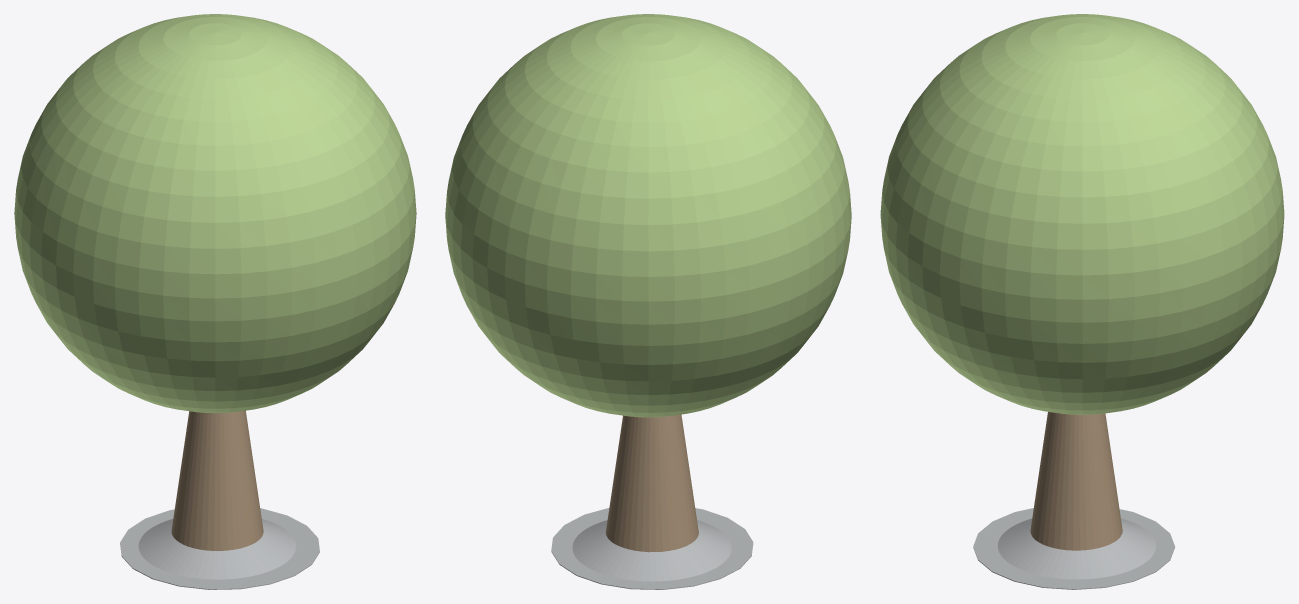
The model's file is SecondaryTreeLightGreen.glb.
3 views of the same model, side by side, from view 1: azimuth 30°, elevation 25°; view 2: azimuth 150°, elevation 25°; view 3: azimuth 270°, elevation 25° (orthographic).
Parts seen in each view (by area): view 1: Mesh_Mesh_head_geo.001_lambert2SG.001; view 2: Mesh_Mesh_head_geo.001_lambert2SG.001; view 3: Mesh_Mesh_head_geo.001_lambert2SG.001.
Part boxes in pixels (x1=…): Mesh_Mesh_head_geo.001_lambert2SG.001: x1=14, y1=14, x2=416, y2=589; Mesh_Mesh_head_geo.001_lambert2SG.001: x1=445, y1=14, x2=851, y2=589; Mesh_Mesh_head_geo.001_lambert2SG.001: x1=880, y1=14, x2=1284, y2=589.
Size of the model in its own units: 5 by 7.02 by 5.
